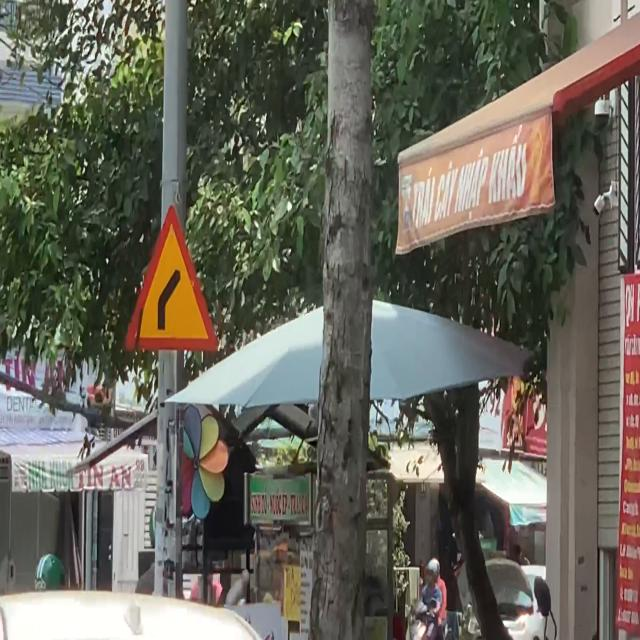Nguy hiem: (120, 197, 225, 364)
